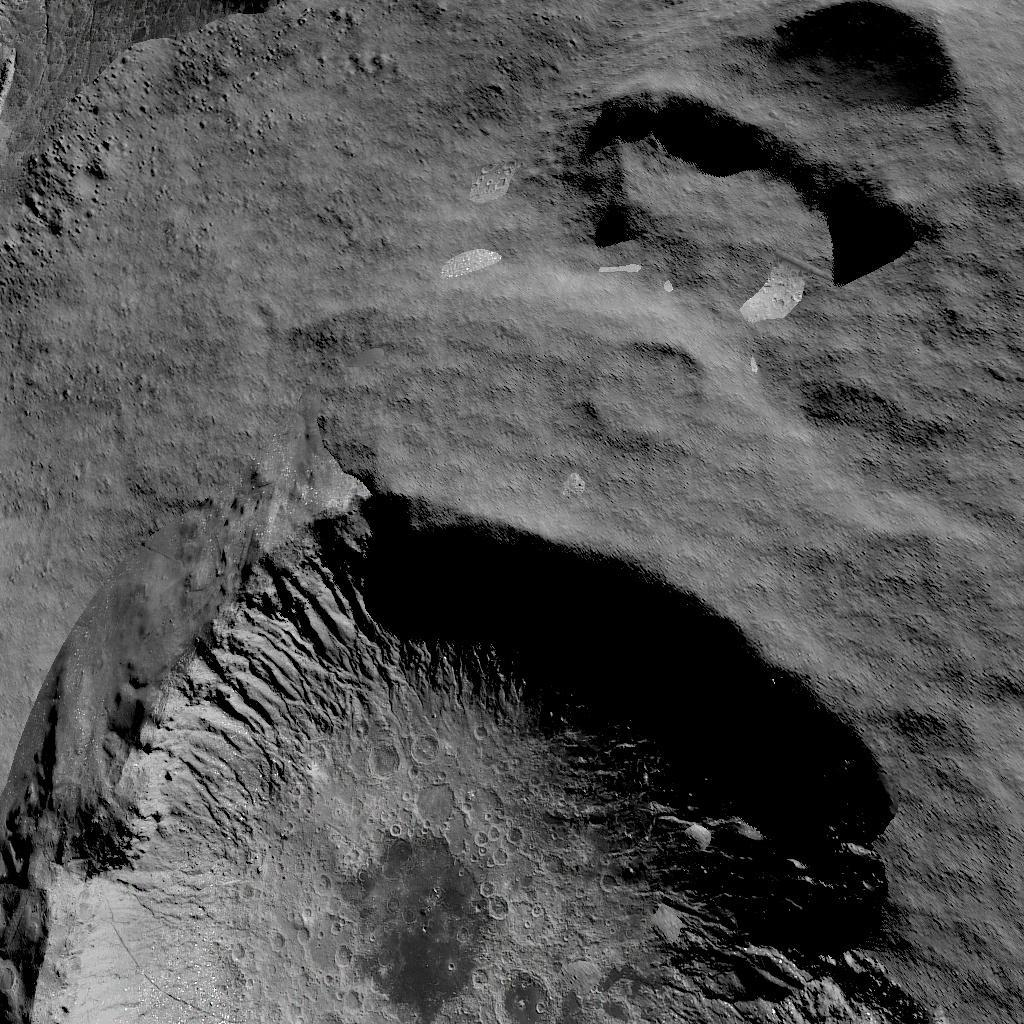Crater: (0, 458, 866, 1024), (576, 0, 968, 273), (580, 309, 716, 449)
Plan surface: (7, 0, 514, 442)
